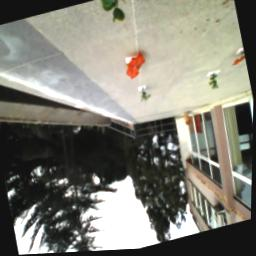herb: (100, 1, 130, 27), (206, 72, 222, 97), (138, 89, 153, 106)
wild: (123, 52, 150, 81), (230, 54, 248, 72)
